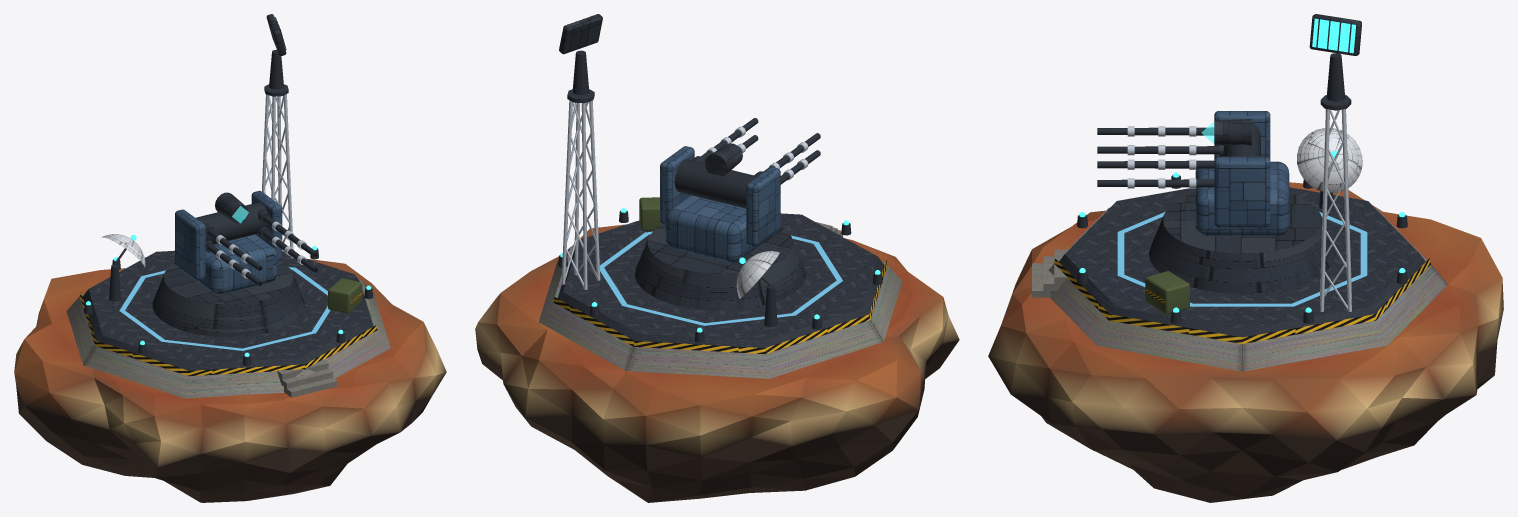
Rendered from aadefense-L100.glb.
The picture shows the model from 3 angles, left to right: view 1: azimuth 30°, elevation 25°; view 2: azimuth 150°, elevation 25°; view 3: azimuth 270°, elevation 25°; orthographic projection. The views are drawn at different scales.
Visible parts, largest first — view 1: object 1, object 4, object 25, object 2, anim:yaw, anim:rc (×4), anim:pitch, object 3, object 5, object 72, object 22, anim:rot (+2 smaller); view 2: object 1, object 4, object 2, object 25, anim:yaw, anim:pitch, object 3, anim:rot (×2), object 5, object 72, object 70, anim:rc; view 3: object 1, object 4, object 2, object 25, anim:yaw, anim:rot (×2), anim:rc (×4), object 3, object 5, anim:pitch, object 72, object 70.
Boxes of the visible parts, left/top/right/bottom form: object 1: left=14, top=259, right=446, bottom=502; object 4: left=82, top=250, right=373, bottom=370; object 25: left=152, top=260, right=304, bottom=337; object 2: left=66, top=279, right=390, bottom=398; anim:yaw: left=175, top=190, right=282, bottom=294; anim:rc (×4): left=203, top=209, right=317, bottom=286; anim:pitch: left=195, top=192, right=268, bottom=244; object 3: left=79, top=292, right=377, bottom=376; object 5: left=119, top=267, right=330, bottom=350; object 72: left=328, top=278, right=362, bottom=313; object 22: left=284, top=377, right=337, bottom=397; anim:rot: left=101, top=234, right=145, bottom=267; object 1: left=475, top=224, right=959, bottom=502; object 4: left=557, top=213, right=884, bottom=347; object 2: left=539, top=246, right=902, bottom=378; object 25: left=635, top=224, right=805, bottom=310; anim:yaw: left=660, top=146, right=780, bottom=262; anim:pitch: left=674, top=143, right=757, bottom=208; object 3: left=553, top=260, right=887, bottom=354; anim:rot (×2): left=559, top=14, right=779, bottom=298; object 5: left=600, top=231, right=842, bottom=325; object 72: left=639, top=197, right=662, bottom=230; object 70: left=572, top=50, right=589, bottom=95; anim:rc: left=692, top=118, right=758, bottom=163; object 1: left=988, top=182, right=1503, bottom=502; object 4: left=1059, top=187, right=1425, bottom=337; object 2: left=1048, top=207, right=1447, bottom=371; object 25: left=1149, top=193, right=1335, bottom=293; anim:yaw: left=1195, top=111, right=1289, bottom=236; anim:rot (×2): left=1297, top=14, right=1362, bottom=192; anim:rc (×4): left=1097, top=126, right=1223, bottom=188; object 3: left=1054, top=258, right=1430, bottom=343; object 5: left=1117, top=212, right=1367, bottom=306; anim:pitch: left=1201, top=119, right=1260, bottom=156; object 72: left=1145, top=271, right=1189, bottom=314; object 70: left=1326, top=53, right=1345, bottom=101.
Bounding box in the file's own units: 5.6 × 5.56 × 5.51.
Materials: 16 (7 with a texture image).
